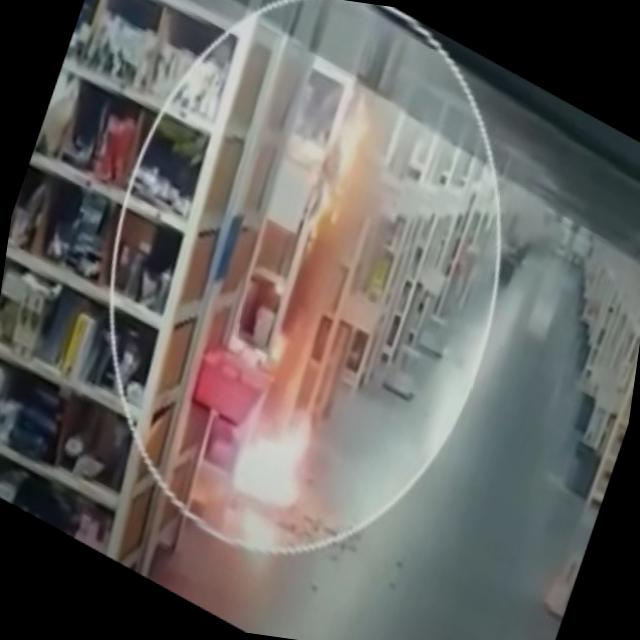fire: (202, 69, 442, 555)
